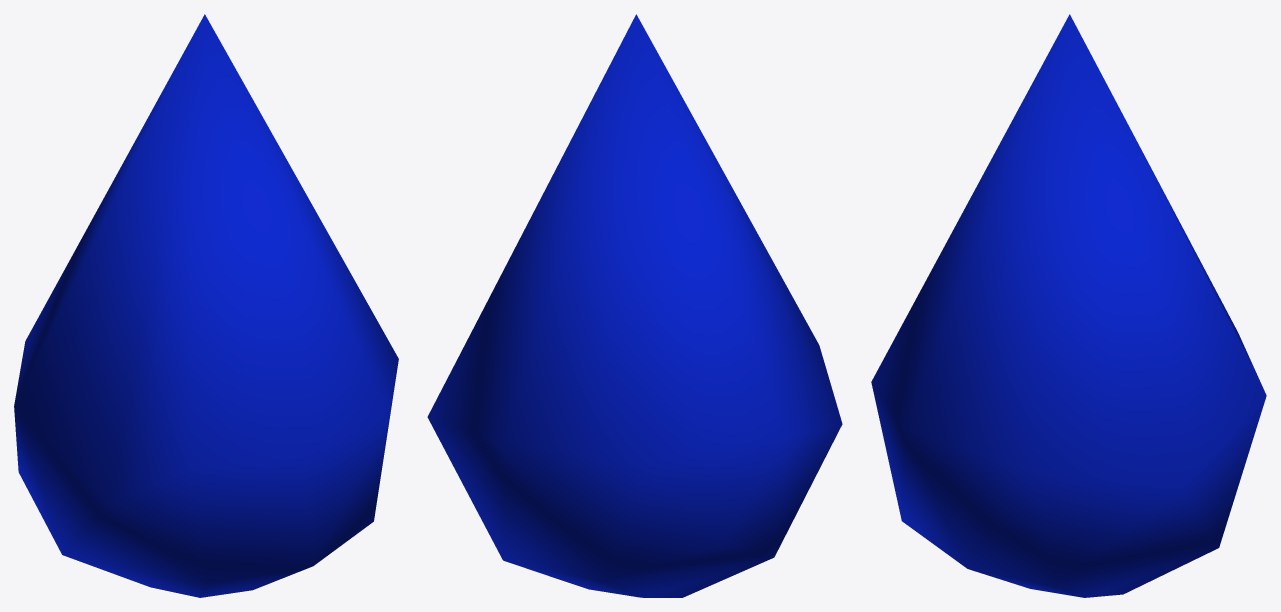
Rendered from boost_lod1.fbx.
3 views of the same model, side by side, from view 1: azimuth 30°, elevation 25°; view 2: azimuth 150°, elevation 25°; view 3: azimuth 270°, elevation 25° (orthographic).
Parts seen in each view (by area): view 1: лод 1; view 2: лод 1; view 3: лод 1.
Part boxes in pixels (box(x1,y1,x2,y2)): лод 1: box(14, 14, 398, 597); лод 1: box(427, 14, 842, 597); лод 1: box(871, 14, 1266, 597).
Size of the model in its own units: 200 by 199 by 311.
